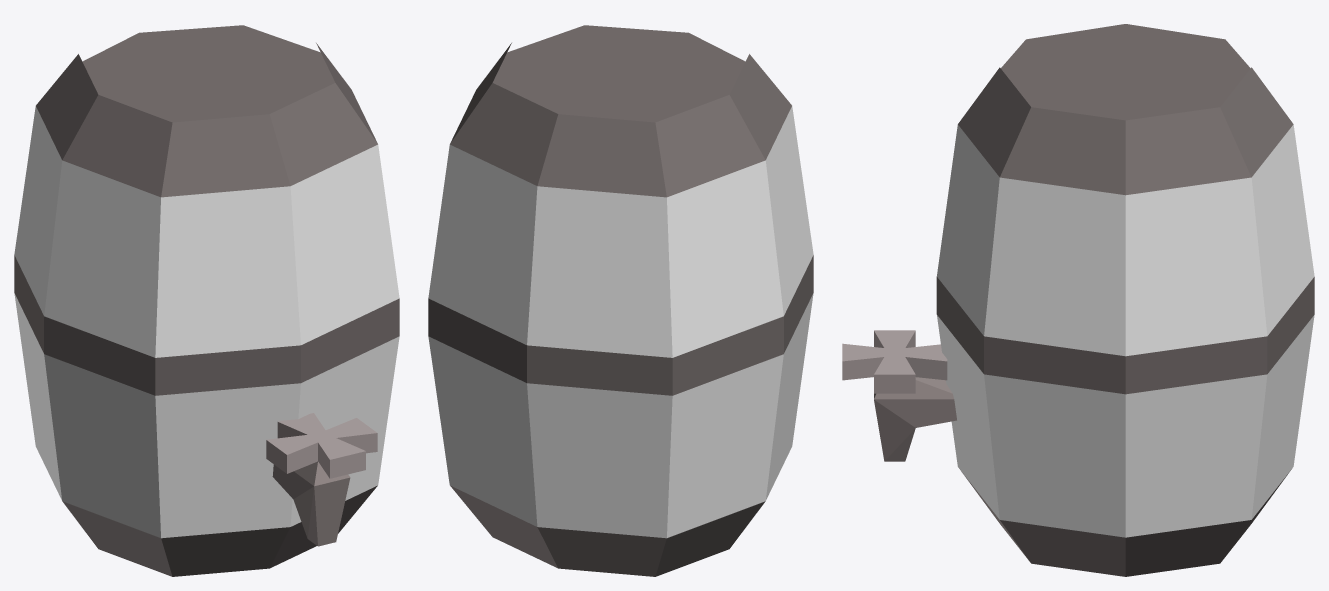
The picture shows the model from 3 angles, left to right: view 1: azimuth 30°, elevation 25°; view 2: azimuth 150°, elevation 25°; view 3: azimuth 270°, elevation 25°; orthographic projection.
Bounding box in the file's own units: 72 × 96 × 90.
1 material, 1 textured.
